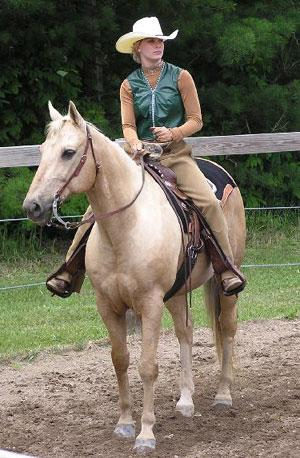person: (49, 17, 245, 294)
